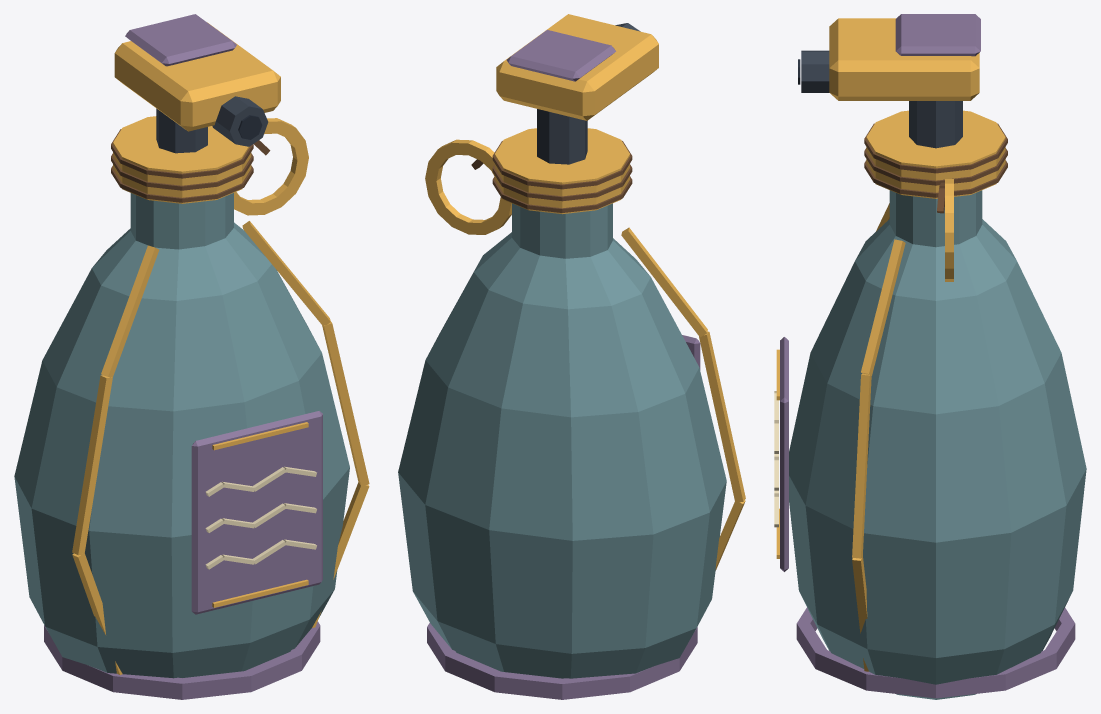
Rendered from magic_slip_mist.glb.
The picture shows the model from 3 angles, left to right: view 1: azimuth 30°, elevation 25°; view 2: azimuth 150°, elevation 25°; view 3: azimuth 270°, elevation 25°; orthographic projection. The views are drawn at different scales.
Visible parts, largest first — view 1: magic_slip_mist__pear_flask, magic_slip_mist__purple_front_label, magic_slip_mist, magic_slip_mist__spray_pump_head, magic_slip_mist__threaded_neck_collar, magic_slip_mist__purple_base_band, magic_slip_mist__thumb_pad, magic_slip_mist__neck_loop, magic_slip_mist__spray_nozzle, magic_slip_mist__pump_stem, magic_slip_mist__collar_thread_0.255, magic_slip_mist__collar_thread_0.243 (+3 smaller); view 2: magic_slip_mist__pear_flask, magic_slip_mist__spray_pump_head, magic_slip_mist__threaded_neck_collar, magic_slip_mist__purple_base_band, magic_slip_mist, magic_slip_mist__thumb_pad, magic_slip_mist__neck_loop, magic_slip_mist__pump_stem, magic_slip_mist__collar_thread_0.255, magic_slip_mist__collar_thread_0.243, magic_slip_mist__collar_thread_0.249; view 3: magic_slip_mist__pear_flask, magic_slip_mist__spray_pump_head, magic_slip_mist__threaded_neck_collar, magic_slip_mist__purple_base_band, magic_slip_mist, magic_slip_mist__thumb_pad, magic_slip_mist__pump_stem, magic_slip_mist__purple_front_label, magic_slip_mist__spray_nozzle, magic_slip_mist__collar_thread_0.255, magic_slip_mist__neck_loop, magic_slip_mist__collar_thread_0.249 (+1 smaller).
Boxes of the visible parts, x1=… form: magic_slip_mist__pear_flask: x1=14, y1=193, x2=349, y2=678; magic_slip_mist__purple_front_label: x1=191, y1=411, x2=322, y2=614; magic_slip_mist: x1=72, y1=140, x2=369, y2=674; magic_slip_mist__spray_pump_head: x1=114, y1=22, x2=280, y2=131; magic_slip_mist__threaded_neck_collar: x1=113, y1=116, x2=251, y2=203; magic_slip_mist__purple_base_band: x1=44, y1=621, x2=320, y2=699; magic_slip_mist__thumb_pad: x1=125, y1=14, x2=236, y2=66; magic_slip_mist__neck_loop: x1=234, y1=118, x2=308, y2=215; magic_slip_mist__spray_nozzle: x1=212, y1=96, x2=268, y2=146; magic_slip_mist__pump_stem: x1=156, y1=108, x2=207, y2=153; magic_slip_mist__collar_thread_0.255: x1=111, y1=129, x2=253, y2=178; magic_slip_mist__collar_thread_0.243: x1=111, y1=165, x2=253, y2=202; magic_slip_mist__pear_flask: x1=398, y1=203, x2=726, y2=678; magic_slip_mist__spray_pump_head: x1=496, y1=14, x2=658, y2=120; magic_slip_mist__threaded_neck_collar: x1=494, y1=128, x2=629, y2=214; magic_slip_mist__purple_base_band: x1=427, y1=623, x2=697, y2=699; magic_slip_mist: x1=471, y1=159, x2=745, y2=570; magic_slip_mist__thumb_pad: x1=506, y1=30, x2=615, y2=81; magic_slip_mist__neck_loop: x1=425, y1=139, x2=511, y2=234; magic_slip_mist__pump_stem: x1=537, y1=109, x2=587, y2=164; magic_slip_mist__collar_thread_0.255: x1=492, y1=141, x2=632, y2=189; magic_slip_mist__collar_thread_0.243: x1=492, y1=176, x2=632, y2=212; magic_slip_mist__collar_thread_0.249: x1=492, y1=164, x2=632, y2=201; magic_slip_mist__pear_flask: x1=789, y1=190, x2=1086, y2=699; magic_slip_mist__spray_pump_head: x1=829, y1=18, x2=979, y2=100; magic_slip_mist__threaded_neck_collar: x1=866, y1=110, x2=1005, y2=198; magic_slip_mist__purple_base_band: x1=796, y1=607, x2=1075, y2=698; magic_slip_mist: x1=774, y1=182, x2=944, y2=671; magic_slip_mist__thumb_pad: x1=895, y1=14, x2=980, y2=56; magic_slip_mist__pump_stem: x1=909, y1=101, x2=962, y2=148; magic_slip_mist__purple_front_label: x1=780, y1=337, x2=788, y2=571; magic_slip_mist__spray_nozzle: x1=801, y1=50, x2=829, y2=92; magic_slip_mist__collar_thread_0.255: x1=864, y1=123, x2=1007, y2=173; magic_slip_mist__neck_loop: x1=945, y1=179, x2=953, y2=281; magic_slip_mist__collar_thread_0.249: x1=864, y1=148, x2=1007, y2=185.
Bounding box in the file's own units: 0.156 × 0.3105 × 0.1391.
